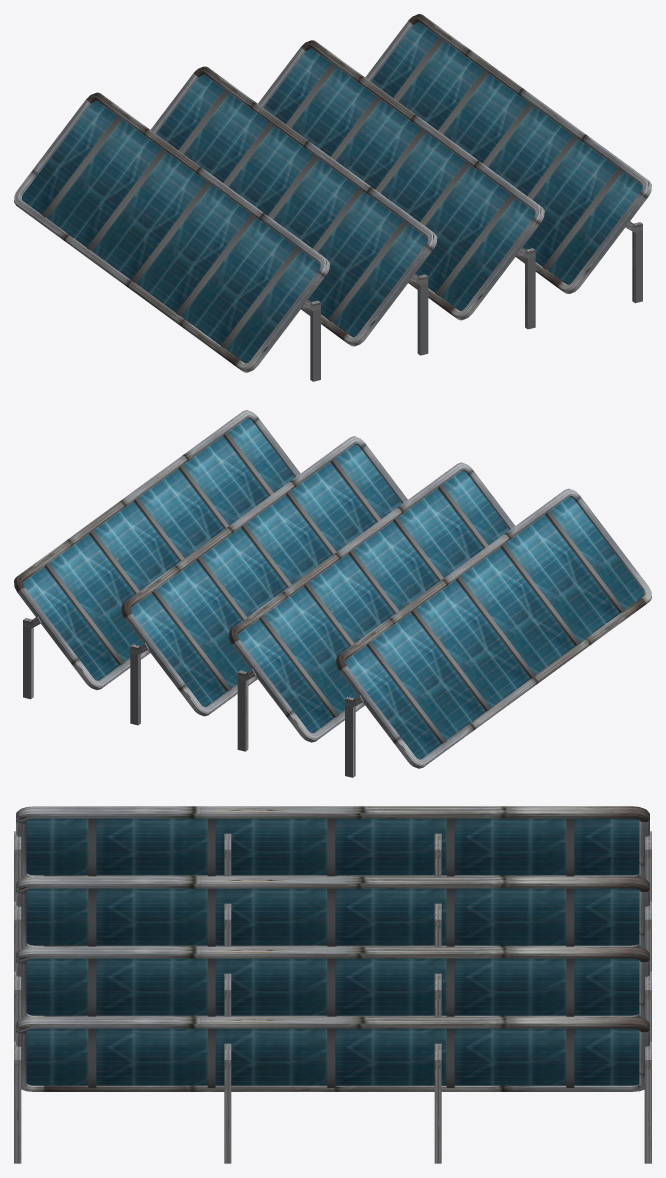
File: static.glb
3 views of the same model, one above another, from view 1: azimuth 30°, elevation 25°; view 2: azimuth 150°, elevation 25°; view 3: azimuth 270°, elevation 25° (orthographic). The views are drawn at different scales.
Parts seen in each view (by area): view 1: Sweep, Plane_2, Plane_5, Plane_3, Plane_4, Plane_20, Plane_8, Plane_14, Sweep_6, Sweep_8, Sweep_4, Plane_16 (+28 smaller); view 2: Sweep, Plane_2, Plane_5, Plane_3, Plane_4, Plane_23, Plane_17, Plane_11, Sweep_6, Sweep_8, Sweep_4, Plane_8 (+28 smaller); view 3: Sweep_8, Sweep_4, Sweep_6, Sweep, Plane_11, Plane_17, Plane_23, Plane_5, Plane_2, Plane_8, Plane_14, Plane_20 (+40 smaller).
Part boxes in pixels (x1,y1,x2,y2): Sweep: (14,92,329,372); Plane_2: (181,217,295,345); Plane_5: (47,119,161,247); Plane_3: (136,184,251,312); Plane_4: (92,152,206,279); Plane_20: (523,139,617,266); Plane_8: (308,191,403,319); Plane_14: (415,165,510,293); Sweep_6: (258,40,544,320); Sweep_8: (365,14,651,293); Sweep_4: (150,66,437,346); Plane_16: (335,99,421,189); Sweep: (336,488,651,768); Plane_2: (505,514,619,642); Plane_5: (371,612,485,740); Plane_3: (460,547,575,675); Plane_4: (416,580,530,707); Plane_23: (49,534,142,661); Plane_17: (156,560,250,688); Plane_11: (264,586,357,714); Sweep_6: (121,436,407,716); Sweep_8: (14,410,300,689); Sweep_4: (228,462,514,742); Plane_8: (398,488,483,577); Sweep_8: (16,1016,649,1091); Sweep_4: (16,876,649,948); Sweep_6: (16,946,649,1018); Sweep: (16,806,649,878); Plane_11: (454,888,566,945); Plane_17: (454,958,566,1015); Plane_23: (454,1028,566,1085); Plane_5: (454,818,566,875); Plane_2: (96,818,207,875); Plane_8: (96,888,207,945); Plane_14: (96,958,207,1015); Plane_20: (96,1028,207,1085).
Bounding box in the file's own units: 5.96 × 1.59 × 6.01.
Materials: 3 (3 with a texture image).
